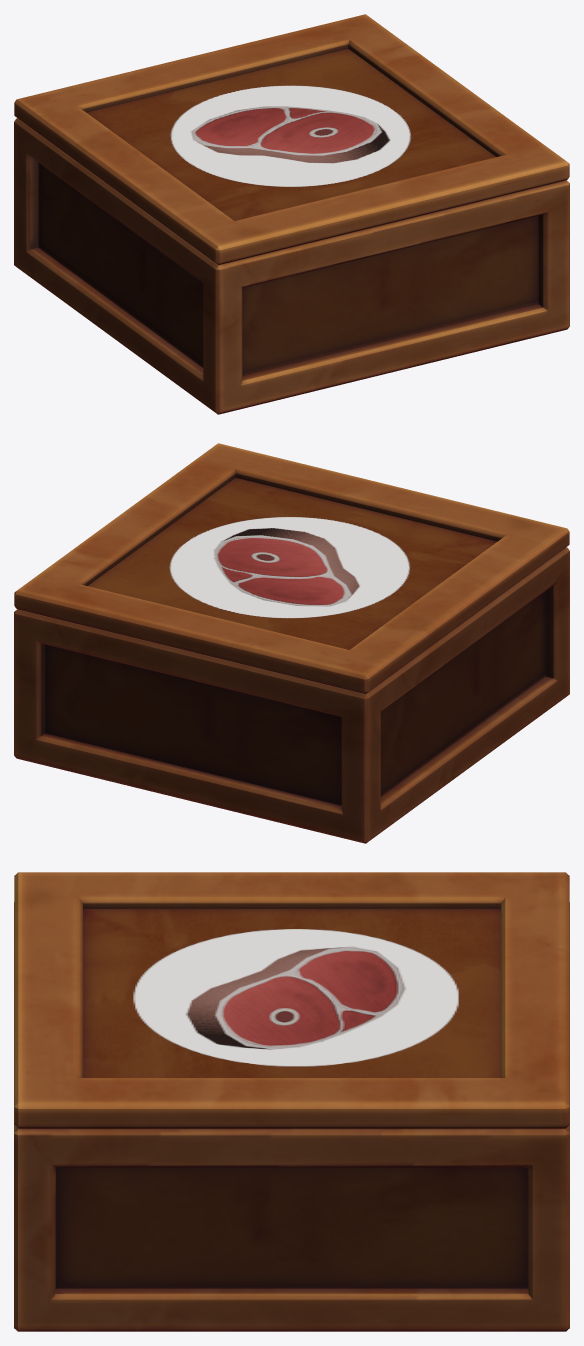
Rendered from meatPattyTable.glb.
The picture shows the model from 3 angles, top to bottom: view 1: azimuth 30°, elevation 25°; view 2: azimuth 150°, elevation 25°; view 3: azimuth 270°, elevation 25°; orthographic projection. The views are drawn at different scales.
Visible parts, largest first — view 1: box, cover, desktop; view 2: box, cover, desktop; view 3: box, cover, desktop.
Part boxes in pixels (x1,y1,x2,y2): box: (14,118,569,414); cover: (14,14,569,264); desktop: (87,49,495,220); box: (14,547,569,843); cover: (14,443,569,693); desktop: (88,478,496,649); box: (14,902,569,1331); cover: (14,872,569,1128); desktop: (83,909,500,1077).
Bounding box in the file's own units: 2 × 0.9057 × 2.
3 materials, 3 textured.
